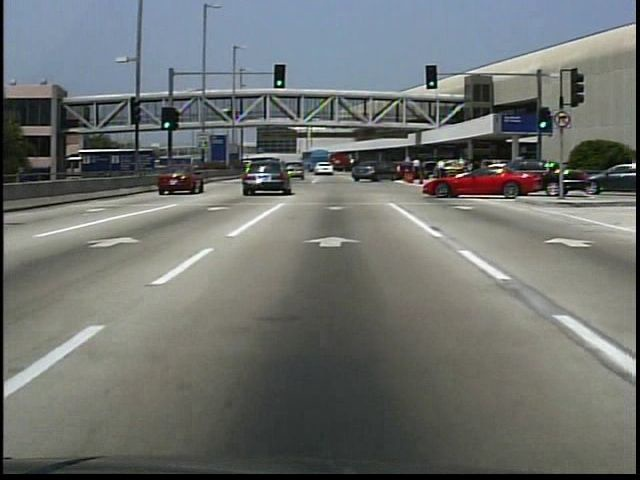person: (410, 158, 424, 185), (435, 157, 447, 179), (227, 108, 234, 123)
